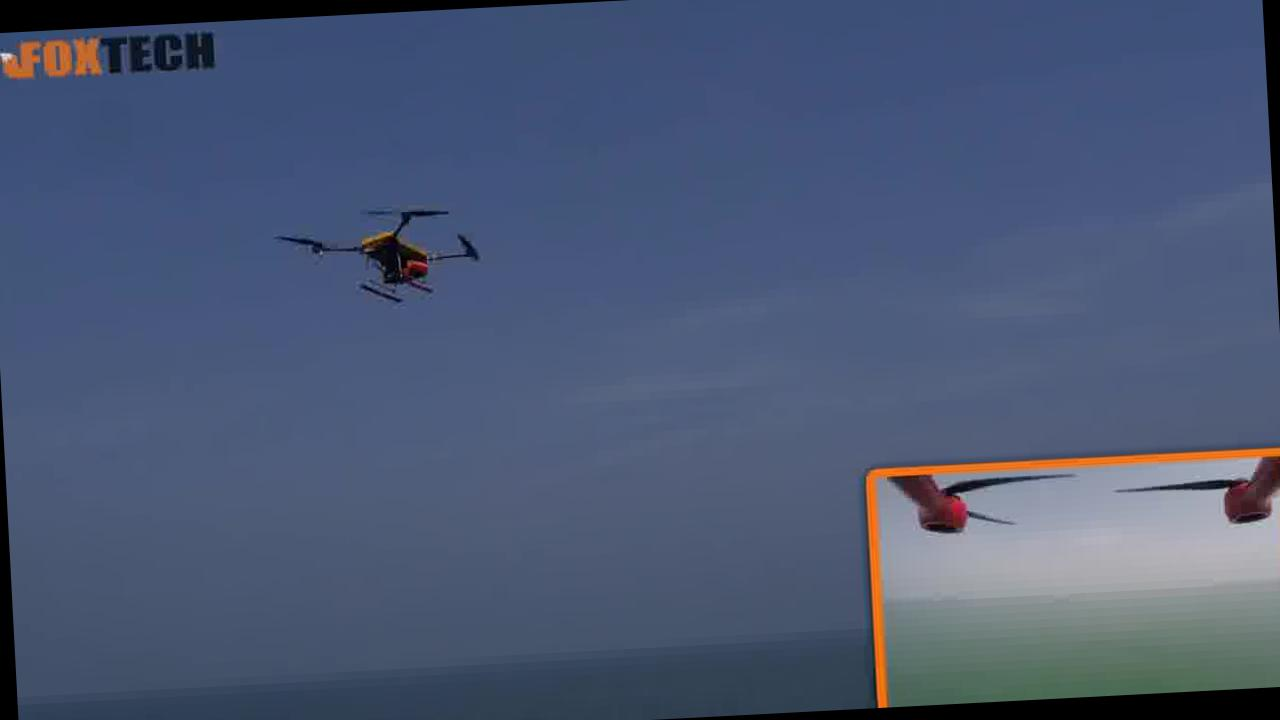drone: (272, 177, 509, 321)
